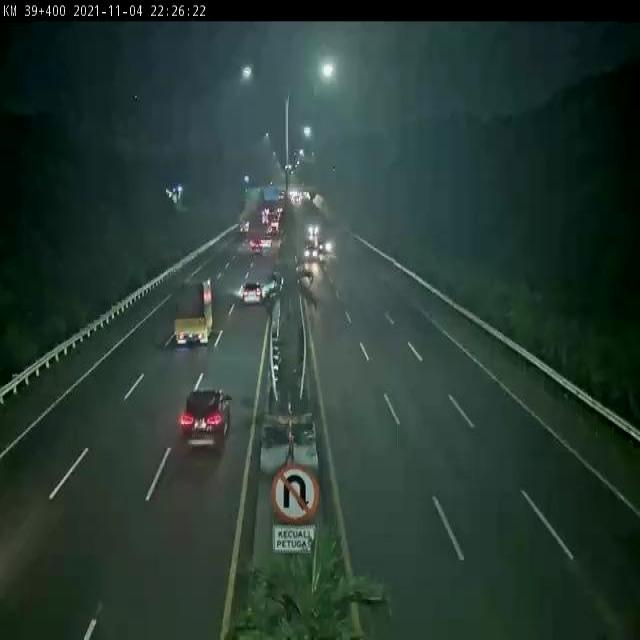Car: (180, 388, 232, 452), (241, 282, 265, 312), (250, 238, 266, 256), (304, 249, 320, 262)
Truck: (172, 273, 215, 347)
